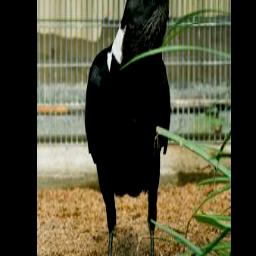Crow: (85, 0, 187, 256)
